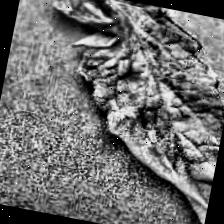leaf mold: (12, 0, 224, 224)
